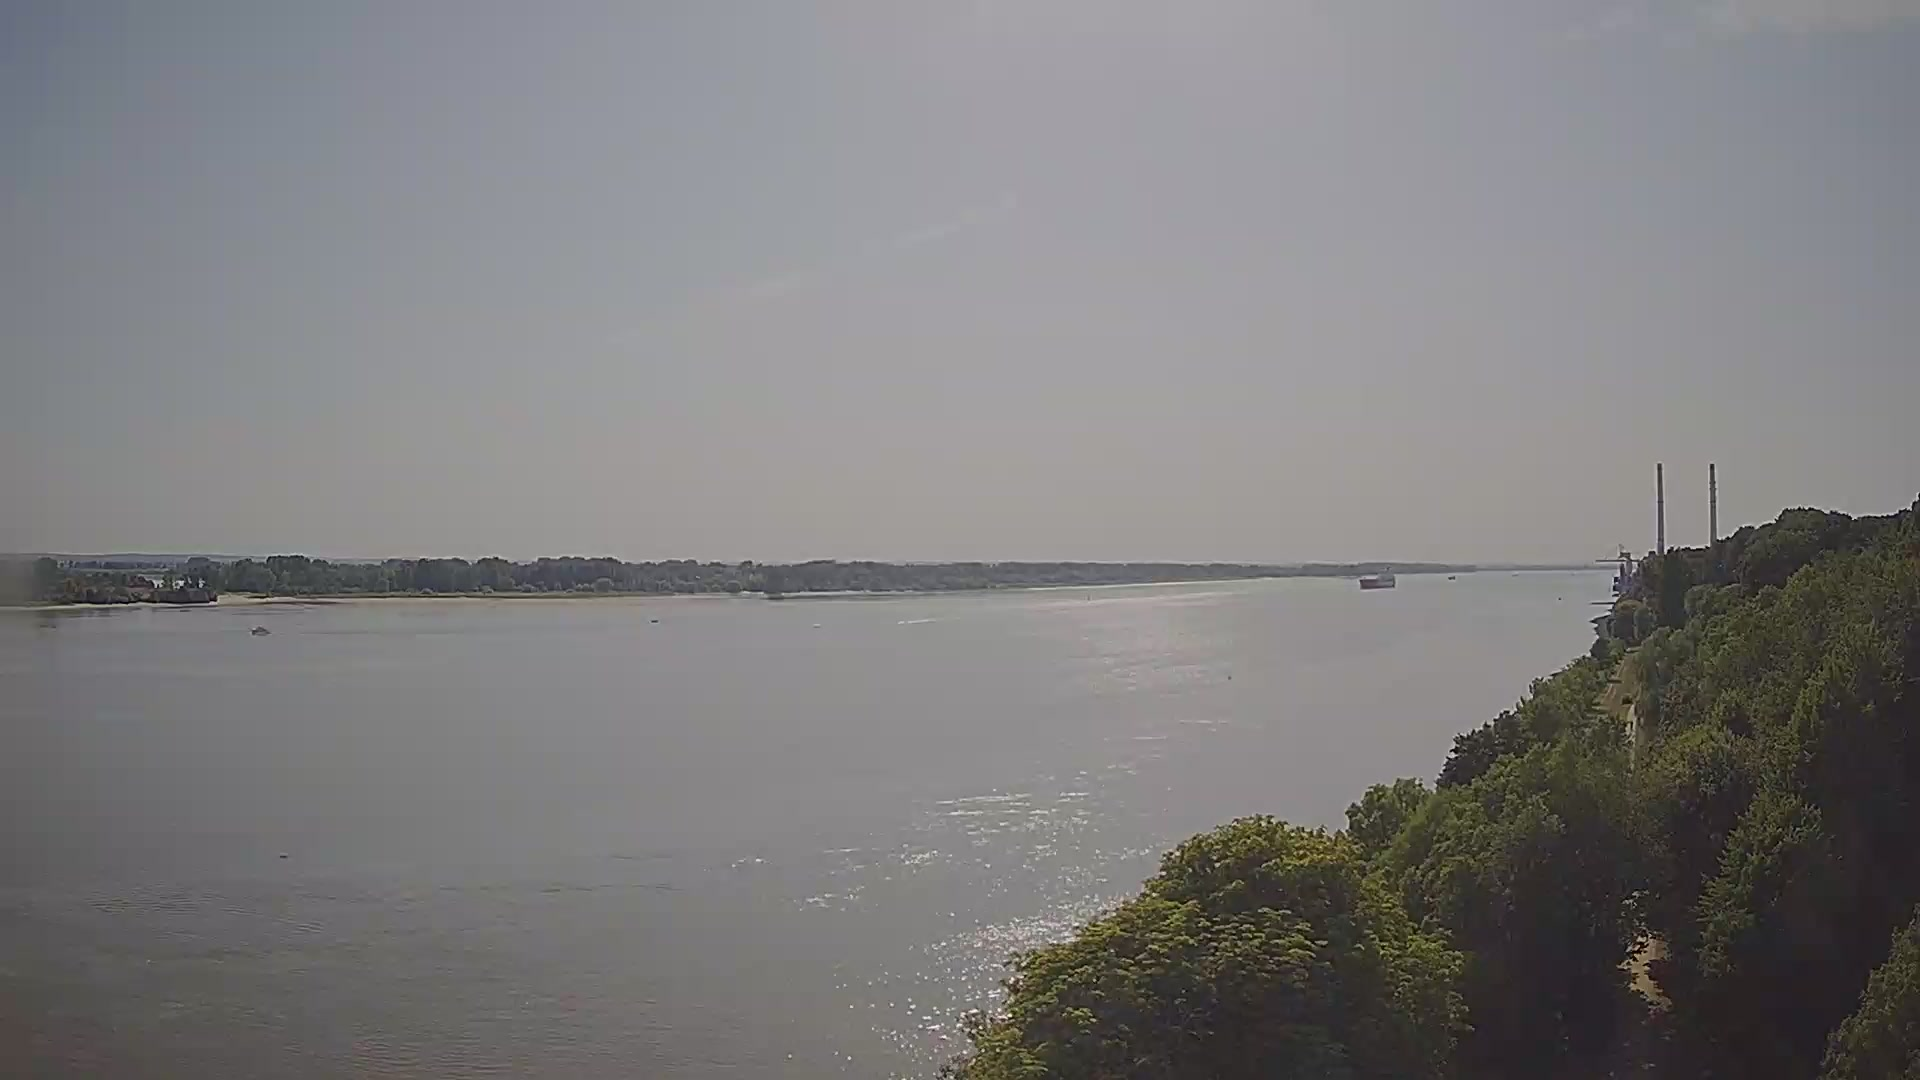sea: (1360, 564, 1396, 589), (251, 625, 272, 636), (1447, 575, 1456, 580), (1511, 572, 1520, 578)
